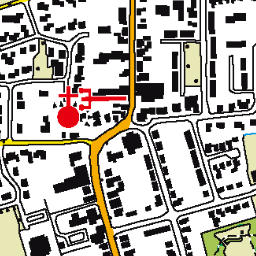church: (54, 84, 82, 130)
